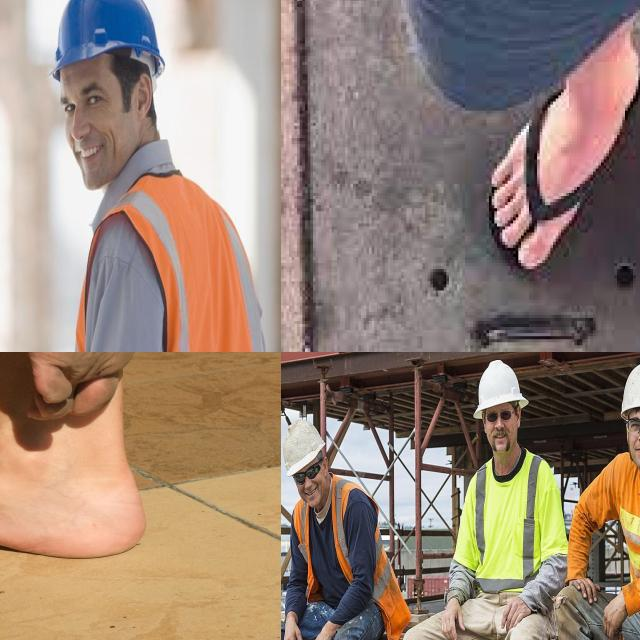Barefoots: (0, 466, 147, 559)
No_Ear-Protection: (130, 64, 155, 120), (321, 454, 330, 480), (516, 401, 523, 429)
No_Glasses: (54, 82, 120, 122)
Sandals: (417, 16, 640, 352)
face_nomask: (54, 66, 129, 186), (293, 452, 338, 512), (480, 402, 524, 447), (625, 409, 640, 475)
glasses: (292, 463, 322, 489), (485, 409, 513, 423), (623, 413, 640, 434)
hand_noglove: (600, 590, 630, 640), (568, 572, 599, 613), (501, 589, 532, 630), (440, 598, 467, 640), (281, 609, 310, 640), (304, 617, 338, 640)
head_helmet: (52, 0, 165, 70), (465, 362, 532, 419), (281, 419, 336, 470), (611, 352, 640, 427)
person: (39, 0, 281, 352), (408, 355, 553, 640), (281, 402, 391, 640), (581, 375, 640, 640)
vest: (86, 192, 273, 352), (454, 462, 579, 596), (281, 473, 389, 612)
